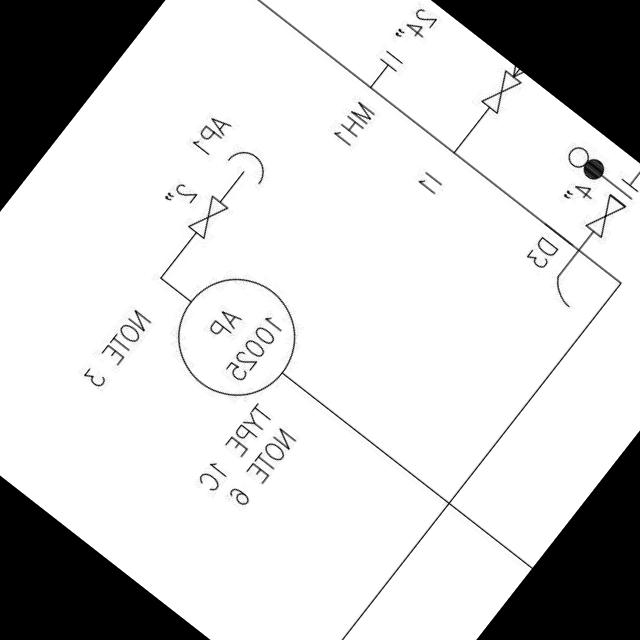GV: (470, 60, 528, 121), (578, 189, 631, 246), (180, 188, 232, 244)
